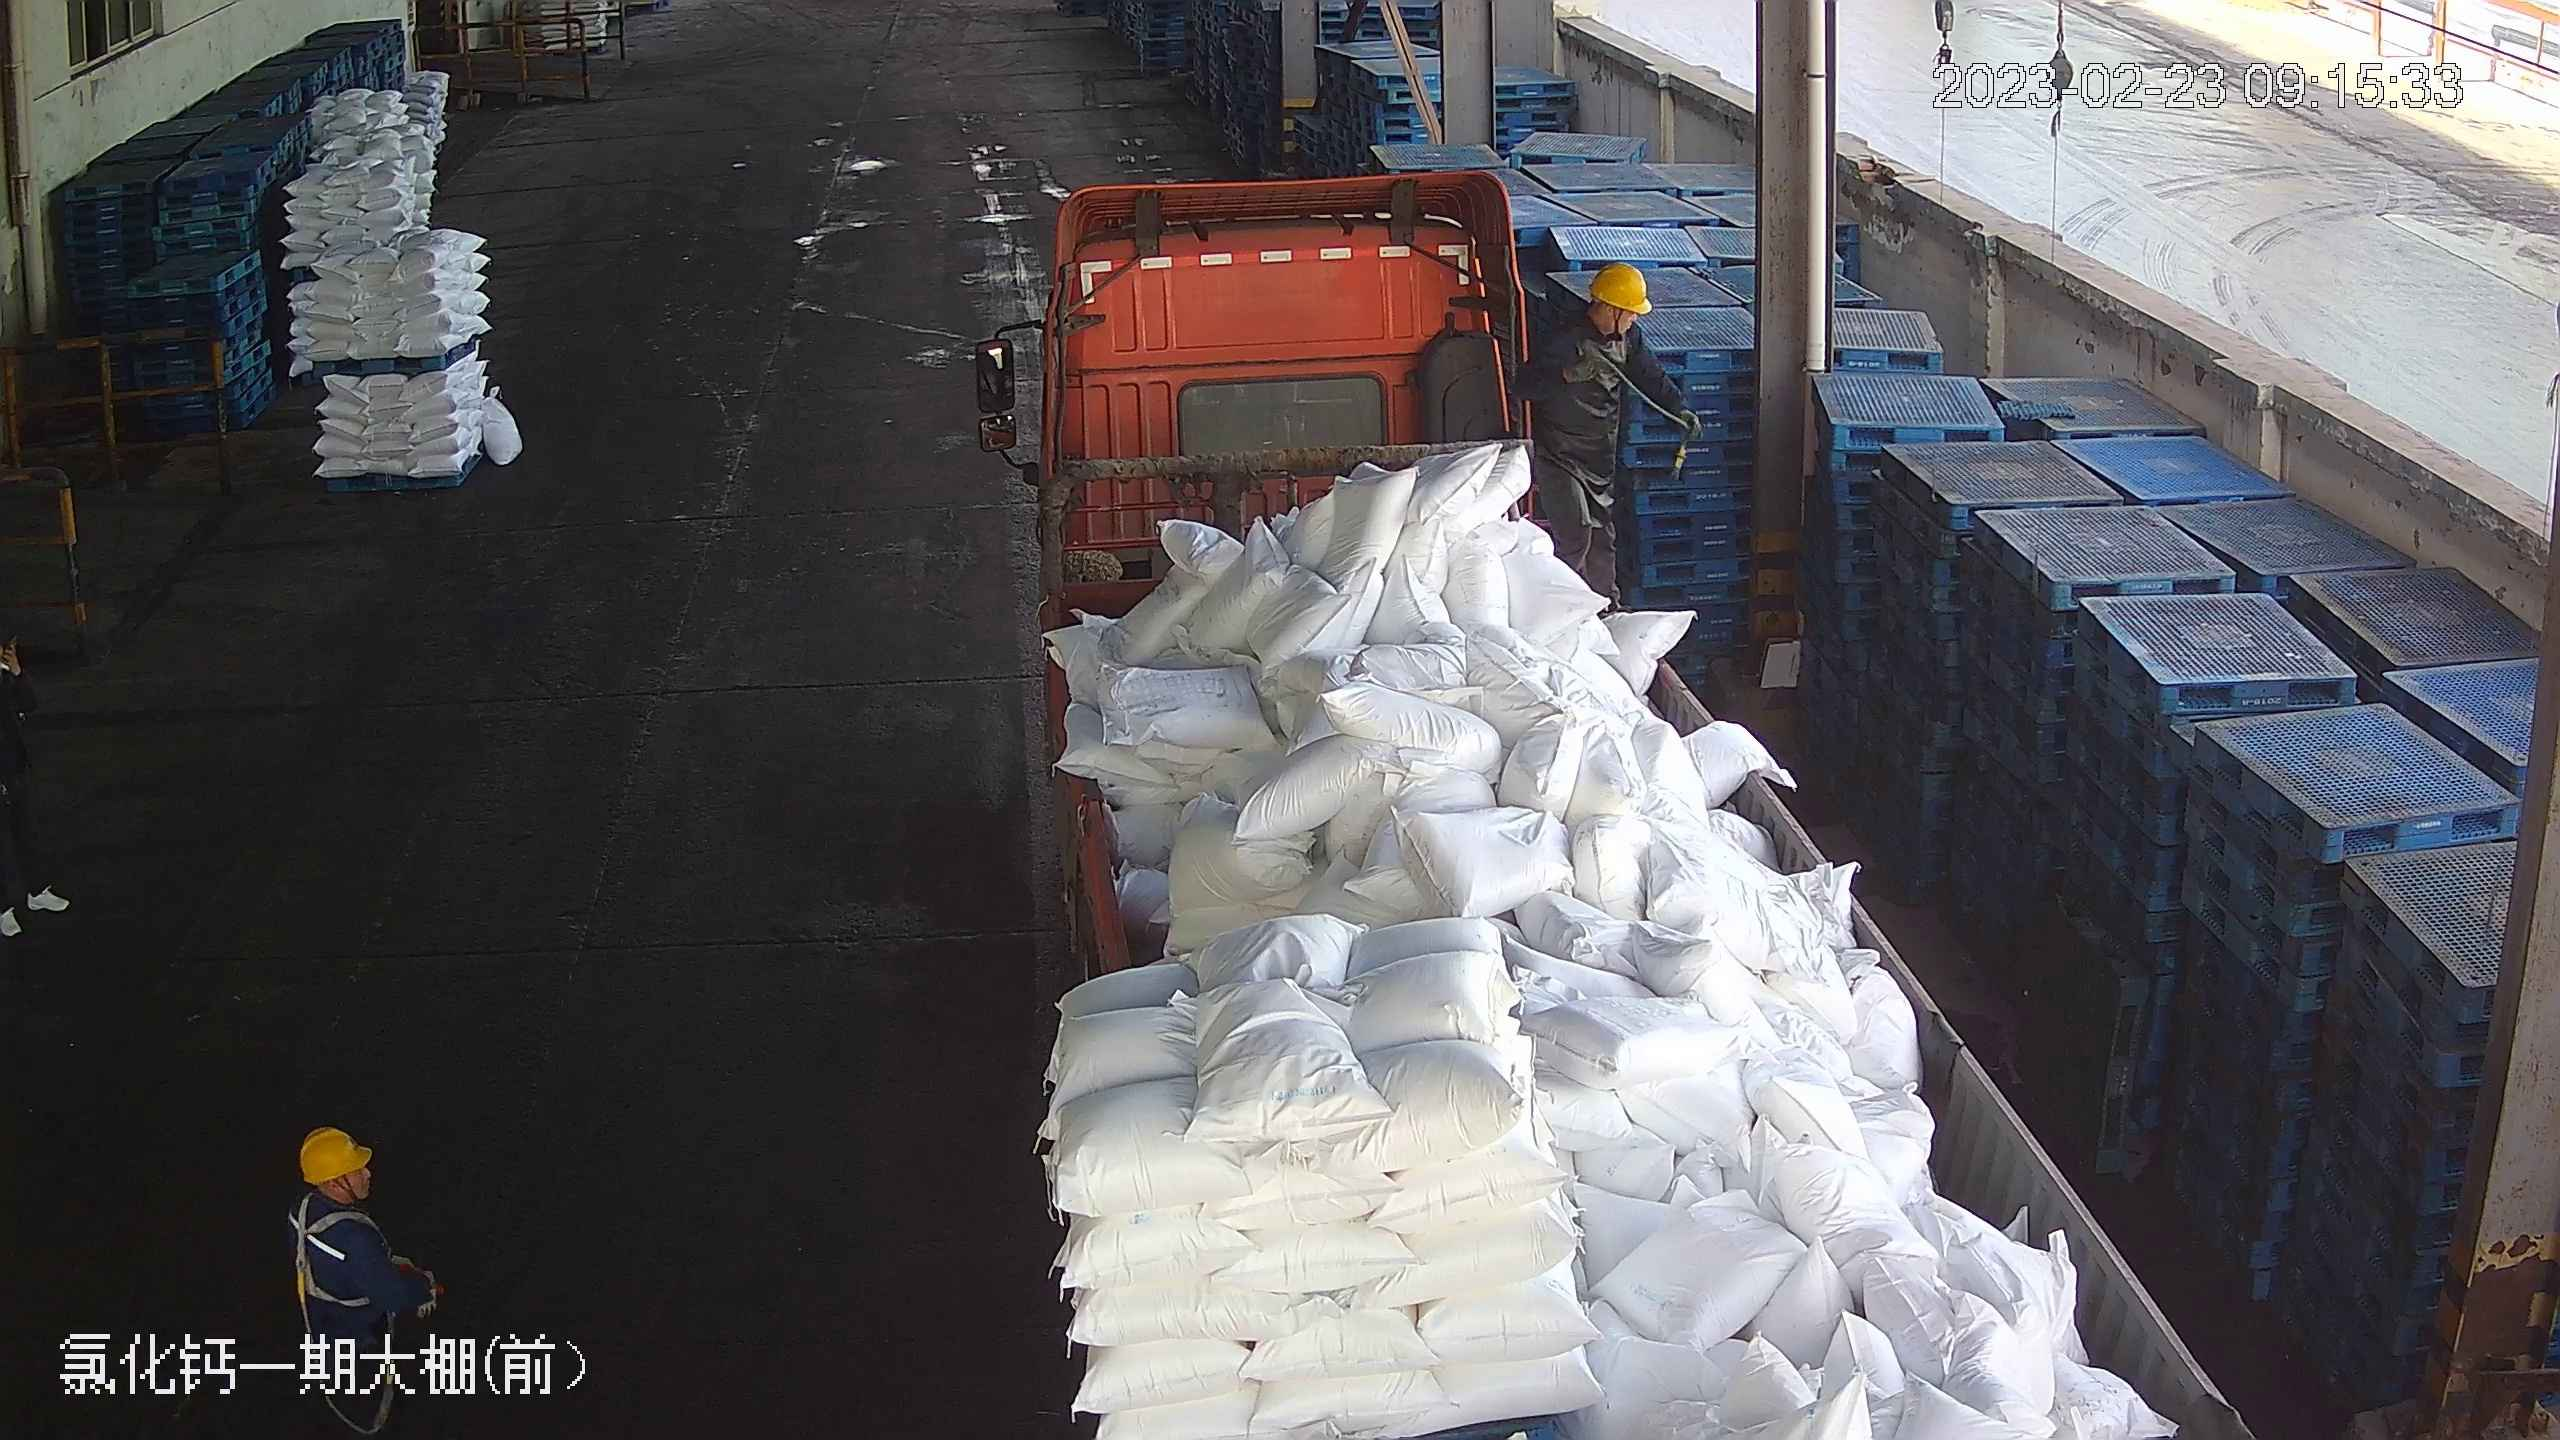belt: (292, 1201, 378, 1309)
head: (289, 1125, 398, 1260), (1545, 263, 1658, 377)
helmet: (297, 1128, 371, 1184), (1585, 260, 1654, 311)
people: (1522, 260, 1697, 617), (291, 1123, 445, 1429)
truck: (972, 165, 2257, 1433)
